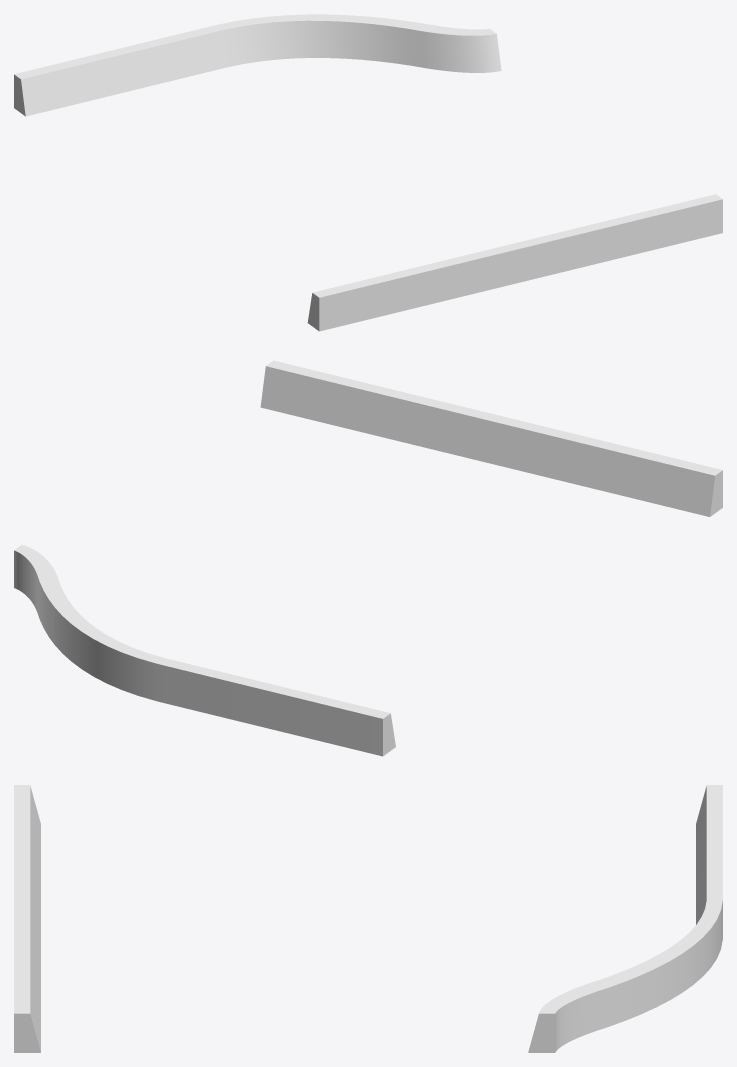
Rendered from road-side-entry-barrier.glb.
3 views of the same model, one above another, from view 1: azimuth 30°, elevation 25°; view 2: azimuth 150°, elevation 25°; view 3: azimuth 270°, elevation 25° (orthographic). The views are drawn at different scales.
Parts seen in each view (by area): view 1: road-side-entry-barrier; view 2: road-side-entry-barrier; view 3: road-side-entry-barrier.
Boxes of the visible parts, bbox=[...] form: road-side-entry-barrier: bbox=[14, 14, 722, 331]; road-side-entry-barrier: bbox=[14, 360, 722, 756]; road-side-entry-barrier: bbox=[14, 785, 722, 1052].
Bounding box in the file's own units: 1 × 0.08 × 1.31.
1 material, 1 textured.
